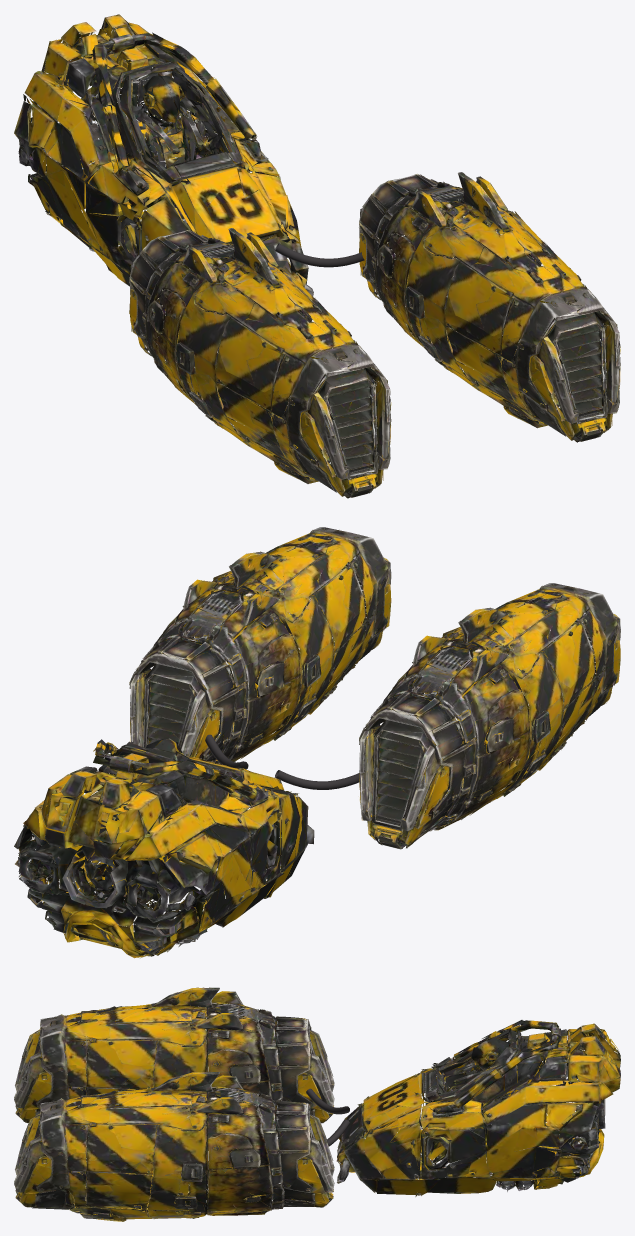
The model's file is bulwark-rival.glb.
3 renders of one model, top to bottom at view 1: azimuth 30°, elevation 25°; view 2: azimuth 150°, elevation 25°; view 3: azimuth 270°, elevation 25°, orthographic. The views are drawn at different scales.
Visible parts, largest first — view 1: bulwark-cockpit-body, bulwark-engine-left-body, bulwark-engine-right-body, bulwark-tow-cables; view 2: bulwark-cockpit-body, bulwark-engine-left-body, bulwark-engine-right-body, bulwark-tow-cables; view 3: bulwark-engine-right-body, bulwark-cockpit-body, bulwark-engine-left-body, bulwark-tow-cables.
Part boxes in pixels (x1,y1,x2,y2): bulwark-cockpit-body: (14,14,313,314); bulwark-engine-left-body: (129,228,391,498); bulwark-engine-right-body: (359,172,620,442); bulwark-tow-cables: (221,243,364,284); bulwark-cockpit-body: (14,738,314,958); bulwark-engine-left-body: (359,583,620,849); bulwark-engine-right-body: (129,527,391,764); bulwark-tow-cables: (205,734,359,789); bulwark-engine-right-body: (14,1071,334,1221); bulwark-cockpit-body: (336,1020,620,1196); bulwark-engine-left-body: (14,987,334,1130); bulwark-tow-cables: (306,1088,349,1146).
Size of the model in its own units: 9.92 by 5.21 by 19.18.
3 materials, 2 textured.
